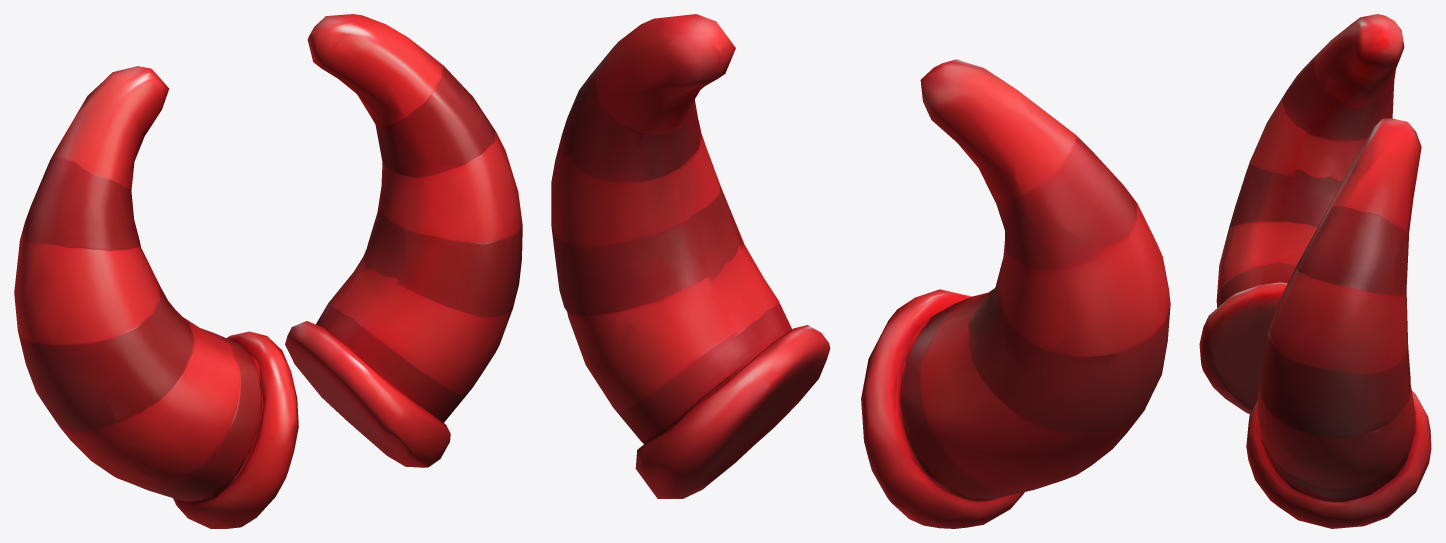
File: Acc_HornsR3.glb
3 views of the same model, side by side, from view 1: azimuth 30°, elevation 25°; view 2: azimuth 150°, elevation 25°; view 3: azimuth 270°, elevation 25° (orthographic). The views are drawn at different scales.
Parts seen in each view (by area): view 1: tripo_node_f7c2893a-1785-43aa-8235-697ab8d942d4; view 2: tripo_node_f7c2893a-1785-43aa-8235-697ab8d942d4; view 3: tripo_node_f7c2893a-1785-43aa-8235-697ab8d942d4.
Boxes of the visible parts, x1,y1,x2,y2 form: tripo_node_f7c2893a-1785-43aa-8235-697ab8d942d4: (14, 14, 522, 528); tripo_node_f7c2893a-1785-43aa-8235-697ab8d942d4: (551, 14, 1170, 528); tripo_node_f7c2893a-1785-43aa-8235-697ab8d942d4: (1199, 14, 1431, 528).
Bounding box in the file's own units: 1.42 × 1.19 × 0.6319.
1 material, 1 textured.
